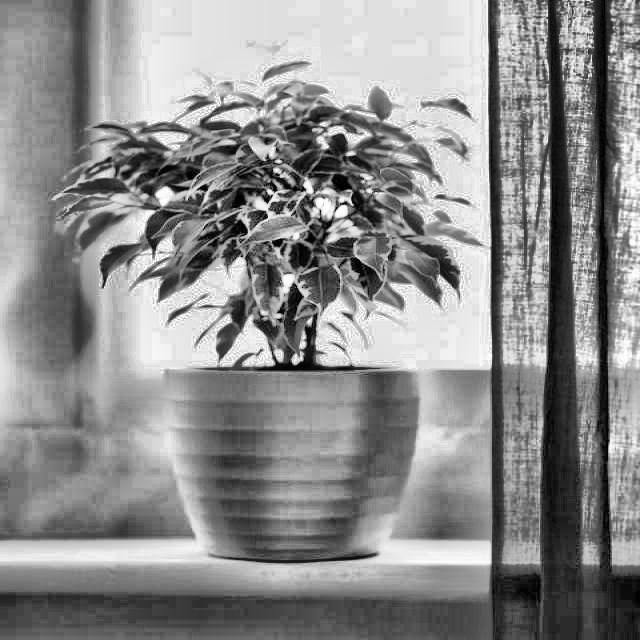plants: (54, 77, 440, 353)
